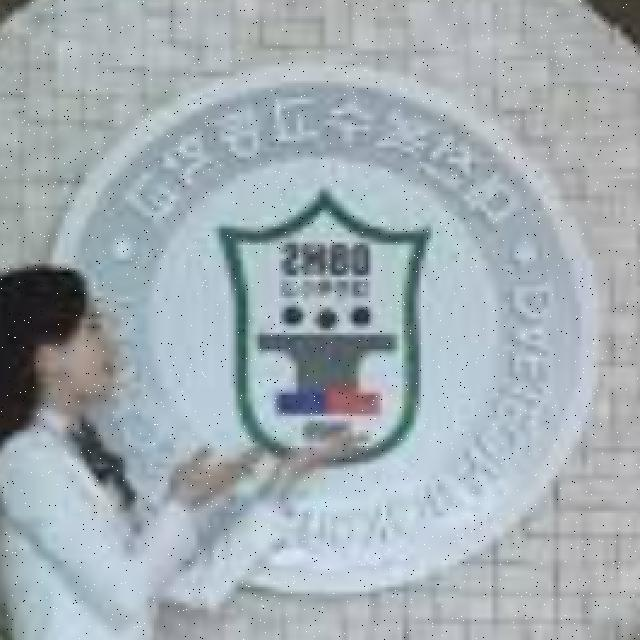logo: (30, 62, 608, 603)
